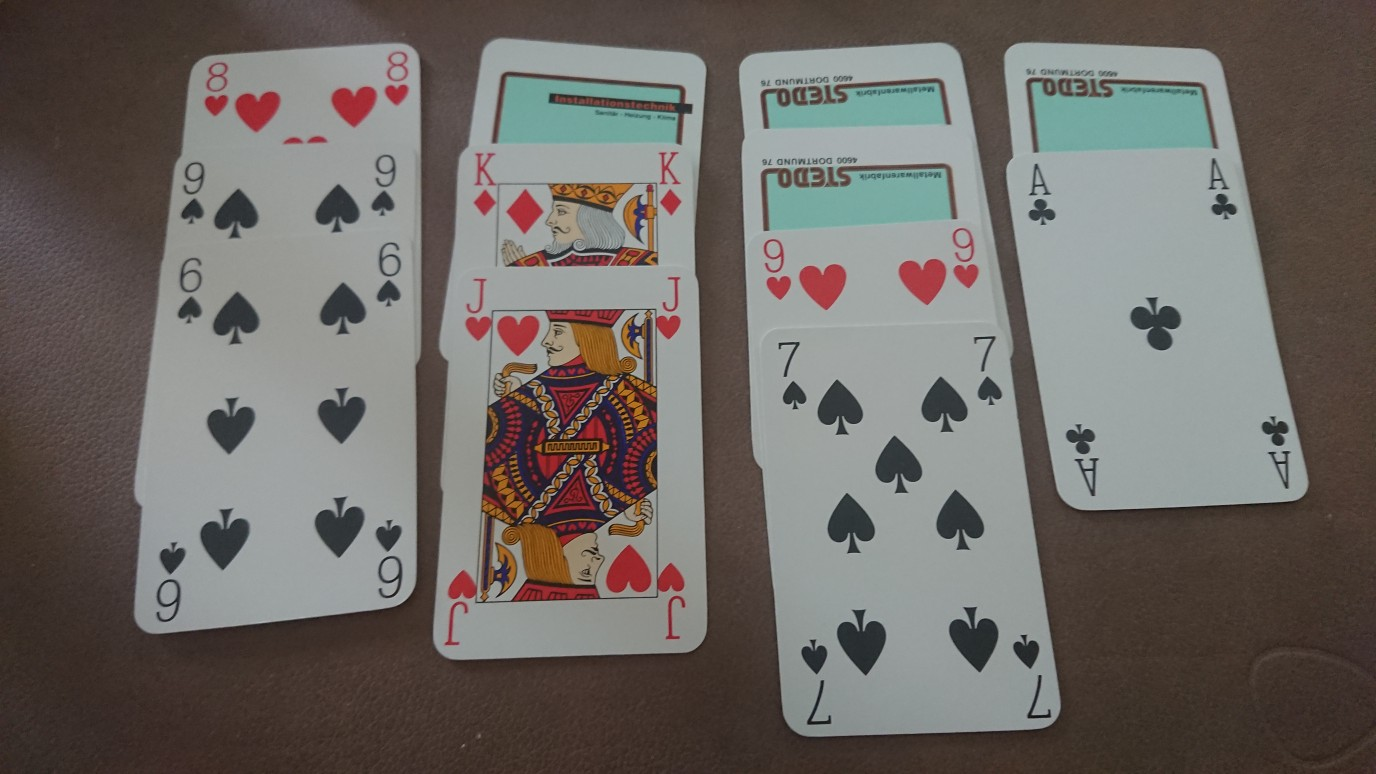6S: (372, 237, 408, 312), (172, 251, 207, 328)
7S: (967, 330, 1008, 412), (772, 337, 812, 413)
8H: (202, 57, 233, 121), (382, 48, 414, 109)
9H: (757, 236, 795, 305), (948, 224, 981, 292)
9S: (176, 157, 210, 228), (367, 150, 400, 220)
AC: (1204, 155, 1243, 225), (1022, 160, 1061, 228)
BACK: (1002, 41, 1242, 149), (468, 35, 707, 142), (740, 127, 980, 223), (736, 41, 973, 126)
JH: (653, 271, 687, 344), (460, 273, 495, 343)
KD: (653, 145, 687, 219), (471, 149, 500, 220)
